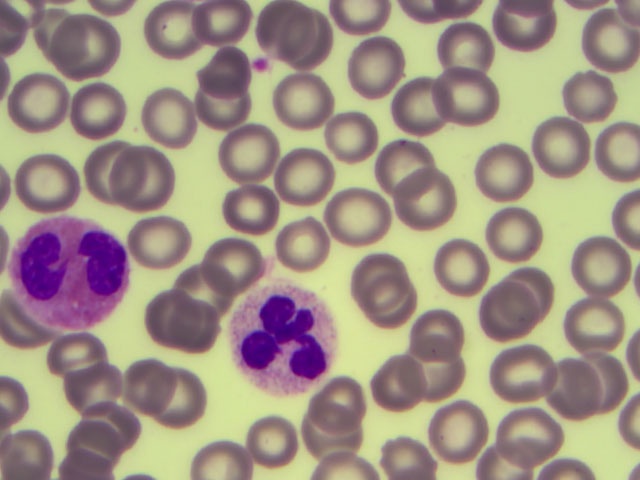Platelets: (250, 56, 272, 73)
RBC: (61, 421, 130, 480), (2, 421, 71, 480), (178, 421, 247, 480), (54, 18, 123, 76), (7, 75, 76, 133), (59, 81, 128, 139), (74, 140, 143, 198), (108, 155, 177, 213), (18, 154, 87, 212), (130, 93, 199, 151), (178, 87, 247, 145), (182, 35, 251, 93), (269, 15, 338, 73), (340, 36, 409, 94), (270, 70, 339, 128), (317, 106, 386, 164), (273, 144, 342, 202), (221, 173, 290, 231), (212, 122, 281, 180), (196, 227, 265, 285), (171, 251, 240, 309), (125, 210, 194, 268), (127, 285, 196, 343), (151, 305, 220, 363), (156, 372, 225, 430), (109, 349, 178, 407), (52, 356, 121, 414), (35, 324, 104, 382), (75, 396, 144, 454), (238, 408, 307, 466), (292, 407, 361, 465), (320, 368, 389, 426), (361, 355, 430, 413), (395, 348, 464, 406), (401, 300, 470, 358), (365, 281, 434, 339), (346, 244, 415, 302), (321, 184, 390, 242), (266, 218, 335, 276), (390, 170, 459, 228), (370, 133, 439, 191), (382, 78, 451, 136), (422, 65, 491, 123), (433, 25, 502, 83), (531, 115, 600, 173), (549, 59, 618, 117), (571, 13, 640, 71), (467, 143, 536, 201), (483, 204, 552, 262), (435, 235, 504, 293), (468, 287, 537, 345), (499, 258, 568, 316), (561, 236, 630, 294), (561, 296, 630, 354), (571, 350, 640, 408), (534, 363, 603, 421), (487, 341, 556, 399), (495, 405, 564, 463), (423, 404, 492, 462), (15, 1, 84, 58), (195, 1, 264, 58), (140, 1, 209, 58), (257, 1, 326, 58), (485, 1, 554, 58)
WBC: (219, 283, 343, 397), (9, 222, 130, 335)
